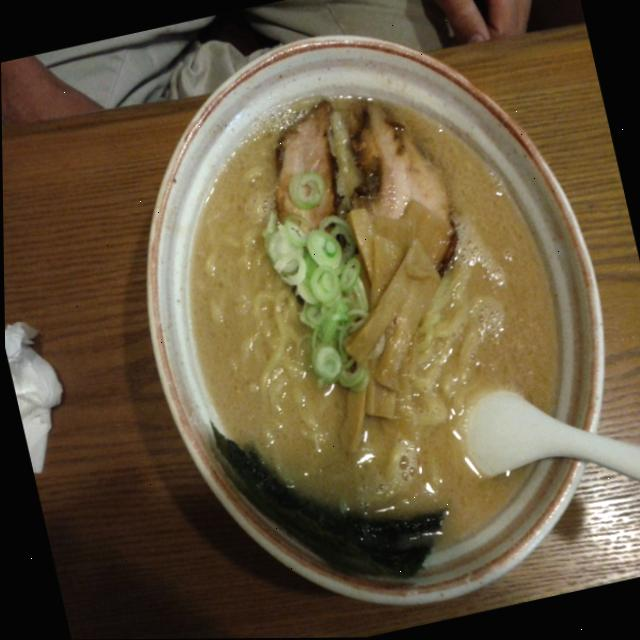面条主食: (81, 0, 640, 640)
